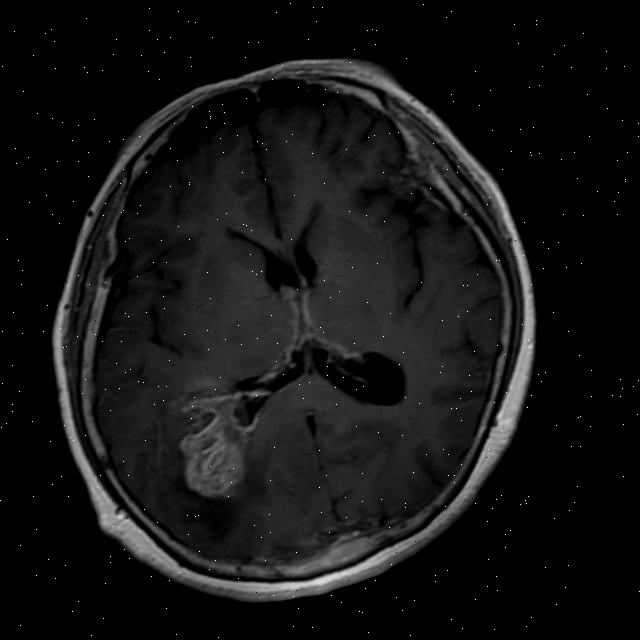Glioma: (165, 374, 294, 512)
